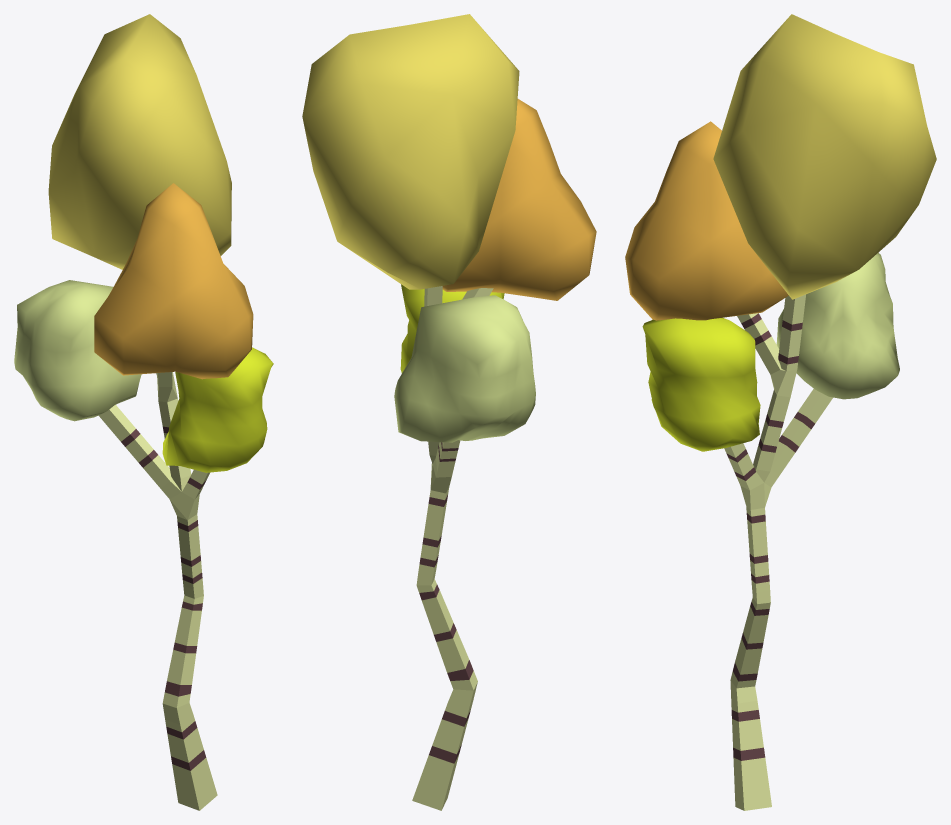
File: bereza 3 autumn.fbx
3 views of the same model, side by side, from view 1: azimuth 30°, elevation 25°; view 2: azimuth 150°, elevation 25°; view 3: azimuth 270°, elevation 25° (orthographic). The views are drawn at different scales.
Parts seen in each view (by area): view 1: Cube; view 2: Cube; view 3: Cube.
Boxes of the visible parts, x1,y1,x2,y2 form: Cube: (14, 14, 273, 810); Cube: (302, 14, 596, 810); Cube: (625, 14, 936, 810).
Size of the model in its own units: 708 by 2707 by 995.
